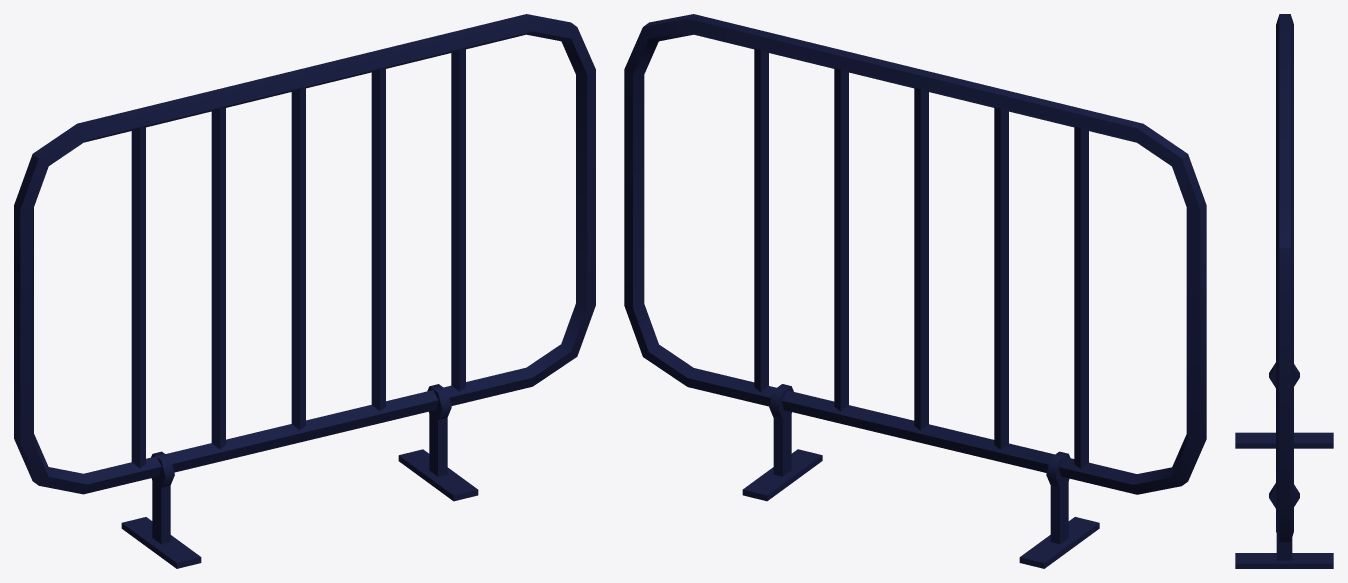
The model's file is SM_fence_02.fbx.
3 renders of one model, left to right at view 1: azimuth 30°, elevation 25°; view 2: azimuth 150°, elevation 25°; view 3: azimuth 270°, elevation 25°, orthographic. The views are drawn at different scales.
Parts seen in each view (by area): view 1: Line011; view 2: Line011; view 3: Line011.
Boxes of the visible parts, x1,y1,x2,y2 form: Line011: (14,14,595,568); Line011: (624,14,1206,568); Line011: (1235,14,1333,568).
Bounding box in the file's own units: 57.94 × 42.28 × 9.62.
